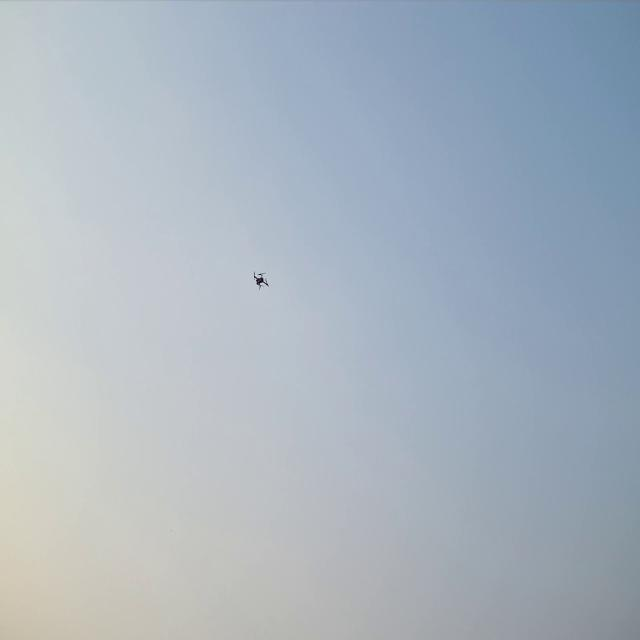UAV: (252, 269, 270, 291)
